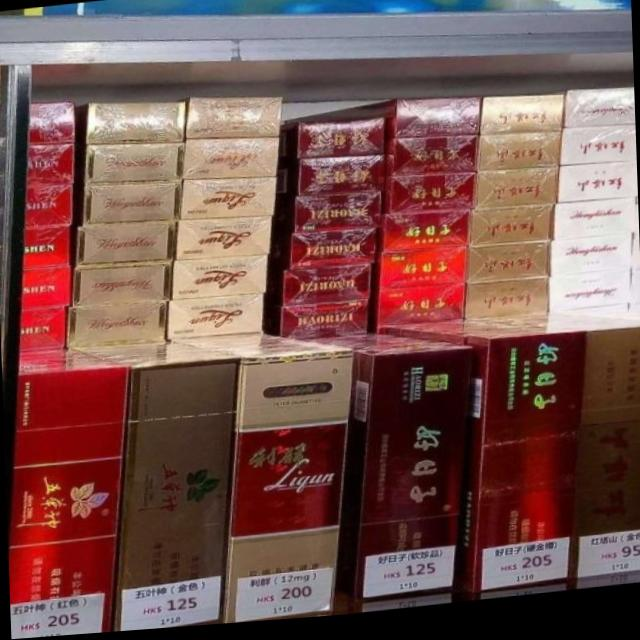box: (106, 353, 240, 633), (221, 349, 353, 627), (456, 336, 584, 598), (8, 362, 129, 639), (342, 351, 471, 604), (333, 347, 451, 607), (566, 330, 640, 585), (284, 103, 481, 146), (270, 196, 380, 241), (268, 233, 377, 278), (72, 261, 176, 308), (71, 182, 182, 226), (66, 302, 169, 349), (75, 103, 186, 146), (72, 145, 184, 187), (277, 125, 387, 167), (72, 223, 179, 266), (276, 159, 383, 202), (265, 268, 371, 310), (170, 257, 267, 302), (166, 297, 262, 342), (261, 304, 369, 343), (180, 180, 276, 223), (369, 289, 465, 332), (370, 253, 466, 295), (176, 219, 270, 261), (383, 141, 479, 182), (185, 100, 283, 140), (380, 179, 475, 219), (377, 216, 471, 256), (463, 282, 547, 326), (472, 173, 558, 215), (185, 141, 276, 180), (466, 247, 550, 289), (549, 206, 635, 247), (468, 212, 556, 252), (546, 280, 630, 321), (548, 243, 632, 284), (476, 138, 561, 178), (558, 171, 636, 212), (559, 132, 636, 173), (480, 103, 563, 141), (562, 96, 634, 138), (442, 331, 566, 353), (19, 307, 69, 353), (24, 224, 73, 270), (21, 266, 72, 309), (25, 144, 75, 187), (28, 103, 76, 146), (26, 186, 73, 228), (419, 328, 502, 349), (88, 348, 206, 362), (384, 325, 474, 342), (400, 328, 490, 344), (214, 344, 324, 356), (199, 342, 302, 354), (73, 344, 187, 354), (502, 321, 589, 334), (186, 340, 287, 351), (306, 337, 400, 348), (336, 342, 427, 353), (171, 336, 261, 347), (533, 325, 630, 335), (468, 319, 565, 329), (19, 358, 104, 367), (19, 351, 95, 361), (19, 349, 78, 358)
